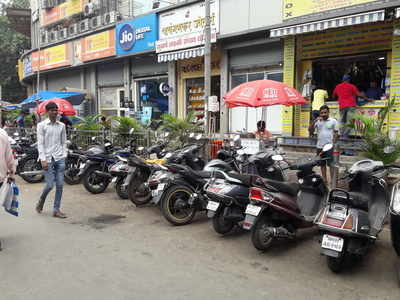Bike: (315, 159, 389, 274), (242, 159, 334, 249)
